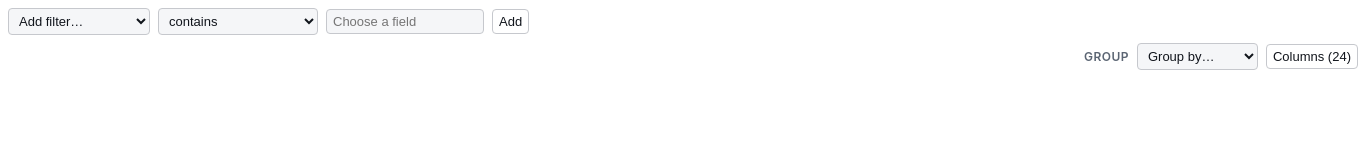
Test case: GridToolbar filter draft › offers text operators for a text column and numeric ones for a metric
Select "Search term" in the dropdown named "Filter column": (79, 22) [8,8,150,35]
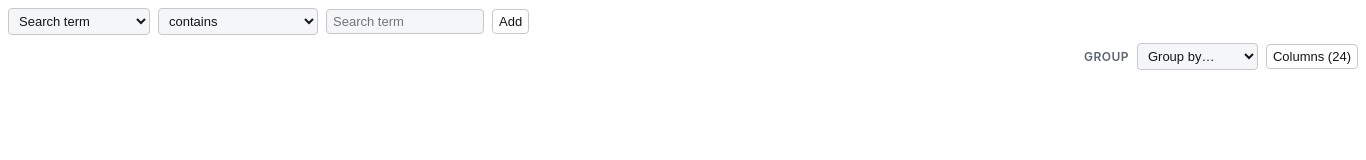
Expected: the field with placeholder "Search term" is shown, [326,9,484,34]
Select "ACOS" in the dropdown named "Filter column": (79, 22) [8,8,150,35]
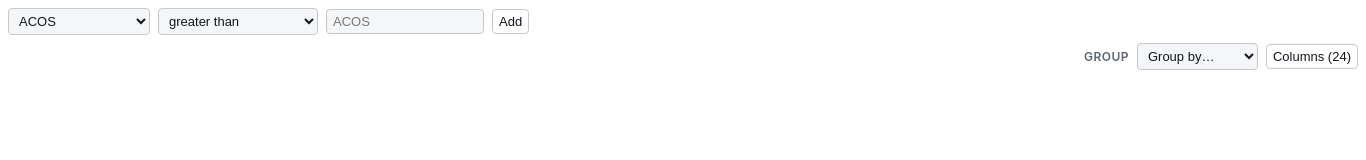
Expected: the field with placeholder "ACOS" is shown, [326,9,484,34]
